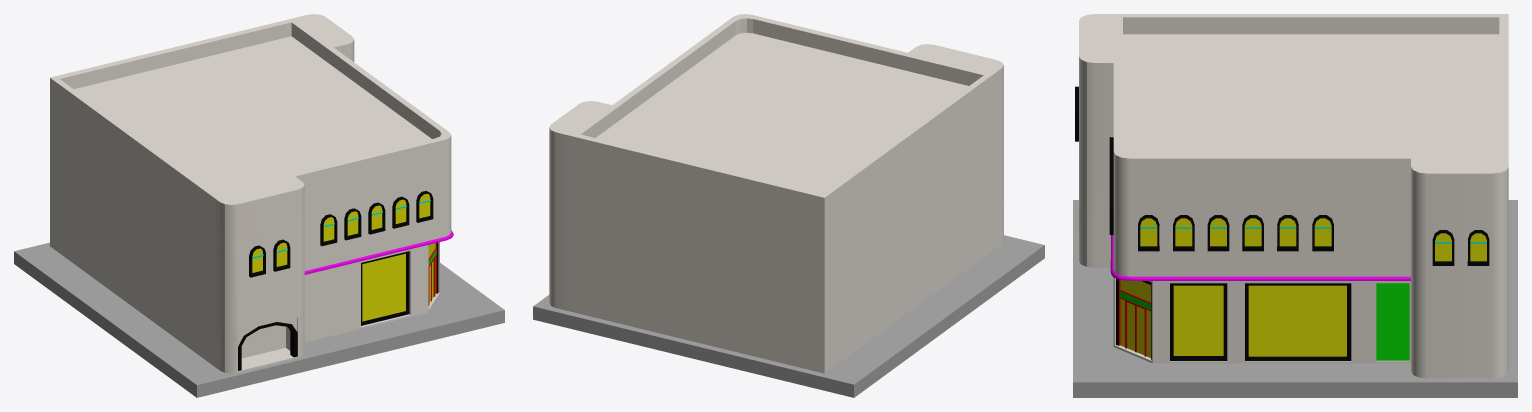
The model's file is building11_middle.fbx.
The picture shows the model from 3 angles, left to right: view 1: azimuth 30°, elevation 25°; view 2: azimuth 150°, elevation 25°; view 3: azimuth 270°, elevation 25°; orthographic projection. The views are drawn at different scales.
Parts seen in each view (by area): view 1: pCube170; view 2: pCube170; view 3: pCube170.
Boxes of the visible parts, <box> form: pCube170: <box>14,14,504,397</box>; pCube170: <box>533,14,1044,397</box>; pCube170: <box>1073,14,1517,397</box>.
Size of the model in its own units: 2526 by 1422 by 2600.
